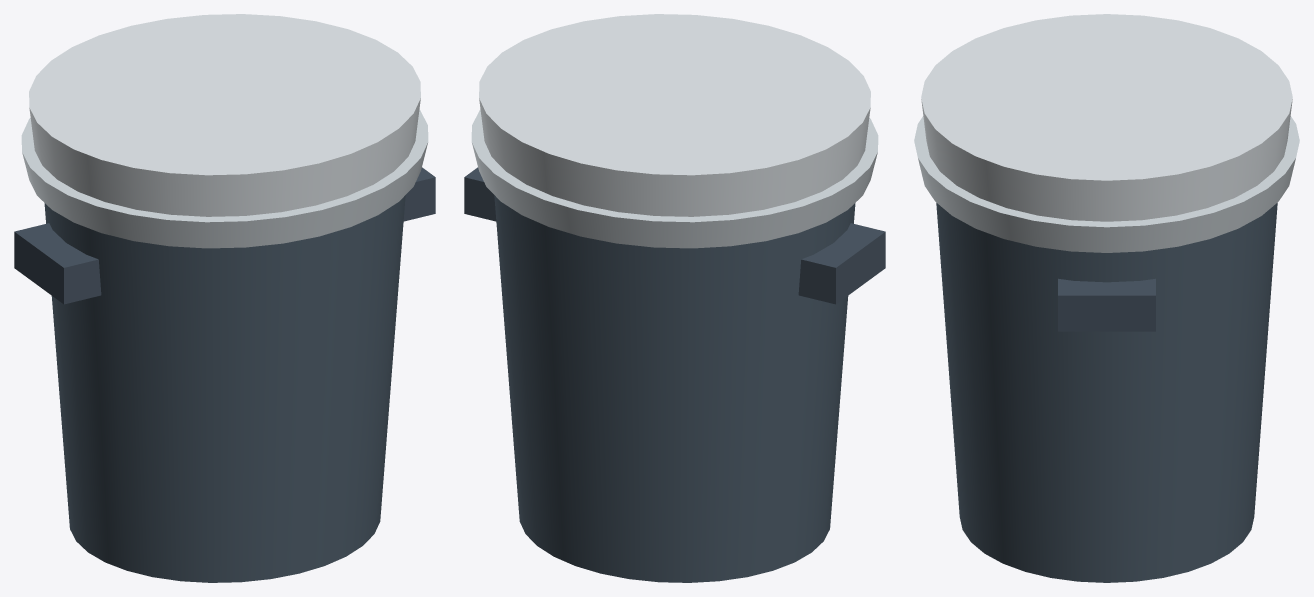
Rendered from scan-commercial-trash-can-wit-aedf.glb.
The picture shows the model from 3 angles, left to right: view 1: azimuth 30°, elevation 25°; view 2: azimuth 150°, elevation 25°; view 3: azimuth 270°, elevation 25°; orthographic projection.
Visible parts, largest first — view 1: scan-commercial-trash-can-wit-aedf; view 2: scan-commercial-trash-can-wit-aedf; view 3: scan-commercial-trash-can-wit-aedf.
Part boxes in pixels (x1,y1,x2,y2): scan-commercial-trash-can-wit-aedf: [14, 14, 435, 582]; scan-commercial-trash-can-wit-aedf: [464, 14, 885, 582]; scan-commercial-trash-can-wit-aedf: [914, 14, 1299, 582].
Bounding box in the file's own units: 0.55 × 0.6 × 0.5.
